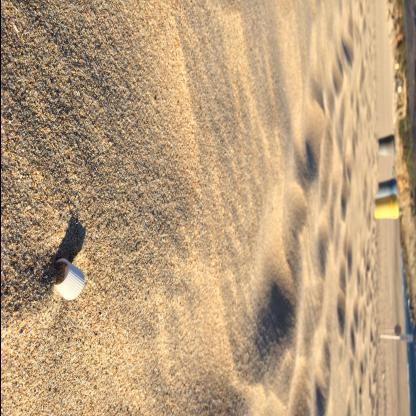plastik: (51, 259, 85, 302)
